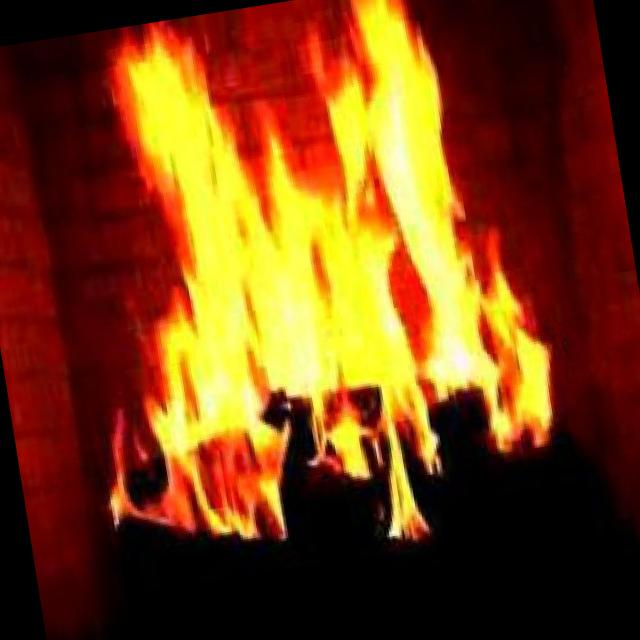Fire: (28, 0, 582, 586)
